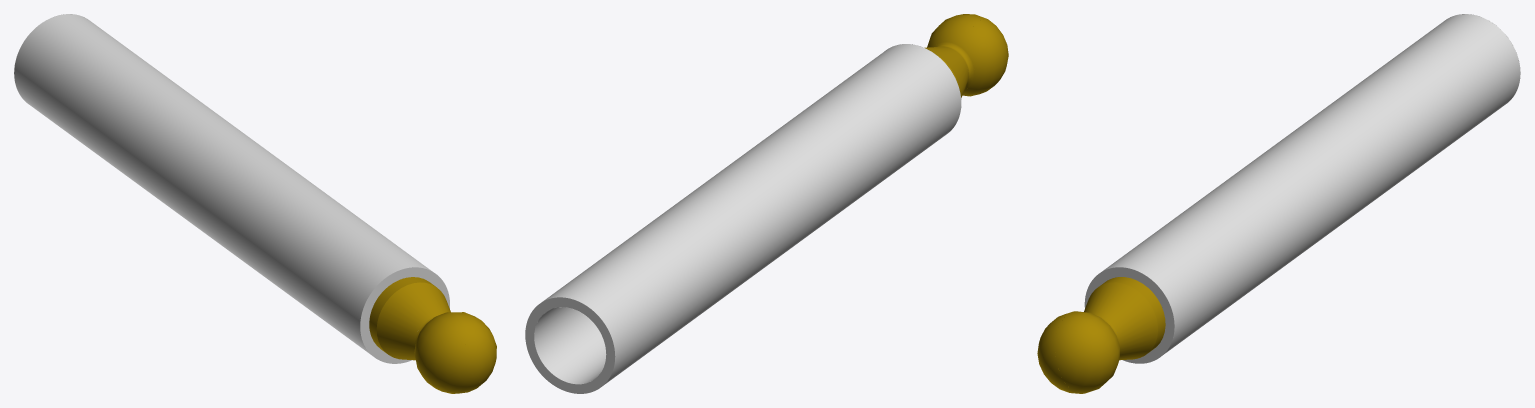
3 views of the same model, side by side, from view 1: azimuth 30°, elevation 25°; view 2: azimuth 150°, elevation 25°; view 3: azimuth 330°, elevation 25° (orthographic).
Parts seen in each view (by area): view 1: L2.IGS (×2); view 2: L2.IGS (×2); view 3: L2.IGS (×2).
Boxes of the visible parts, left/top/right/bottom form: L2.IGS (×2): left=14, top=14, right=496, bottom=393; L2.IGS (×2): left=525, top=14, right=1008, bottom=393; L2.IGS (×2): left=1037, top=14, right=1520, bottom=393.
Size of the model in its own units: 0.03 by 0.03 by 0.2413.
